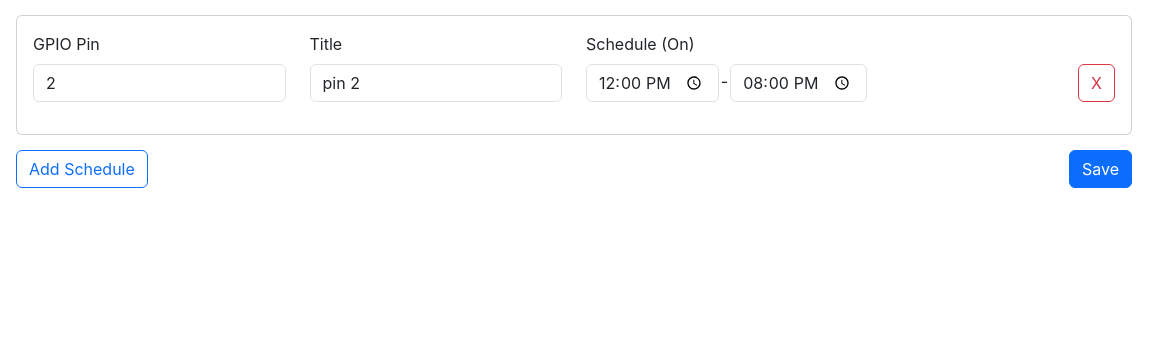
Scenario: when adding a config › remove add clicked
Click the button with test id "add-button" at (82, 169), box x1=16 y1=150 x2=148 y2=188
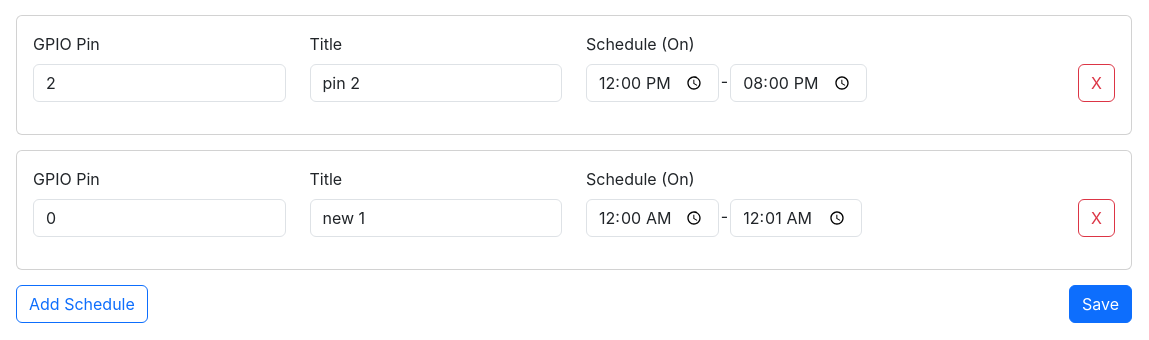
Result: the number of elements with test id "pin-config-container" is 2 at x1=16 y1=15 x2=1132 y2=135; x1=16 y1=150 x2=1132 y2=270
